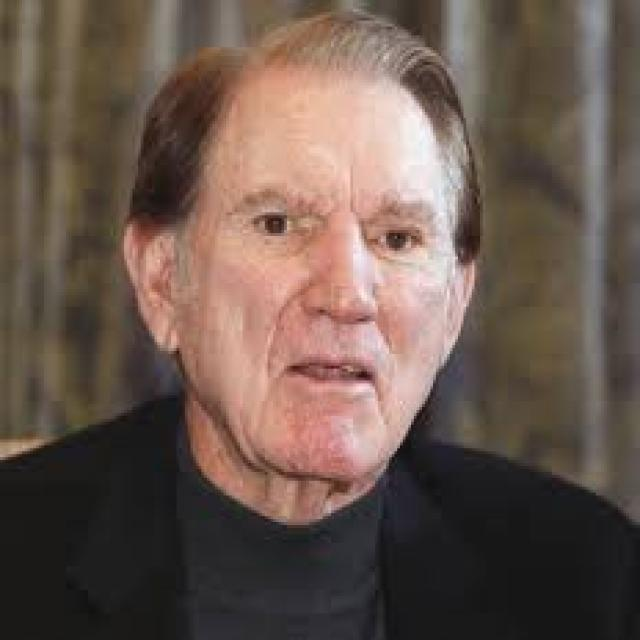normal_face: (148, 35, 462, 489)
